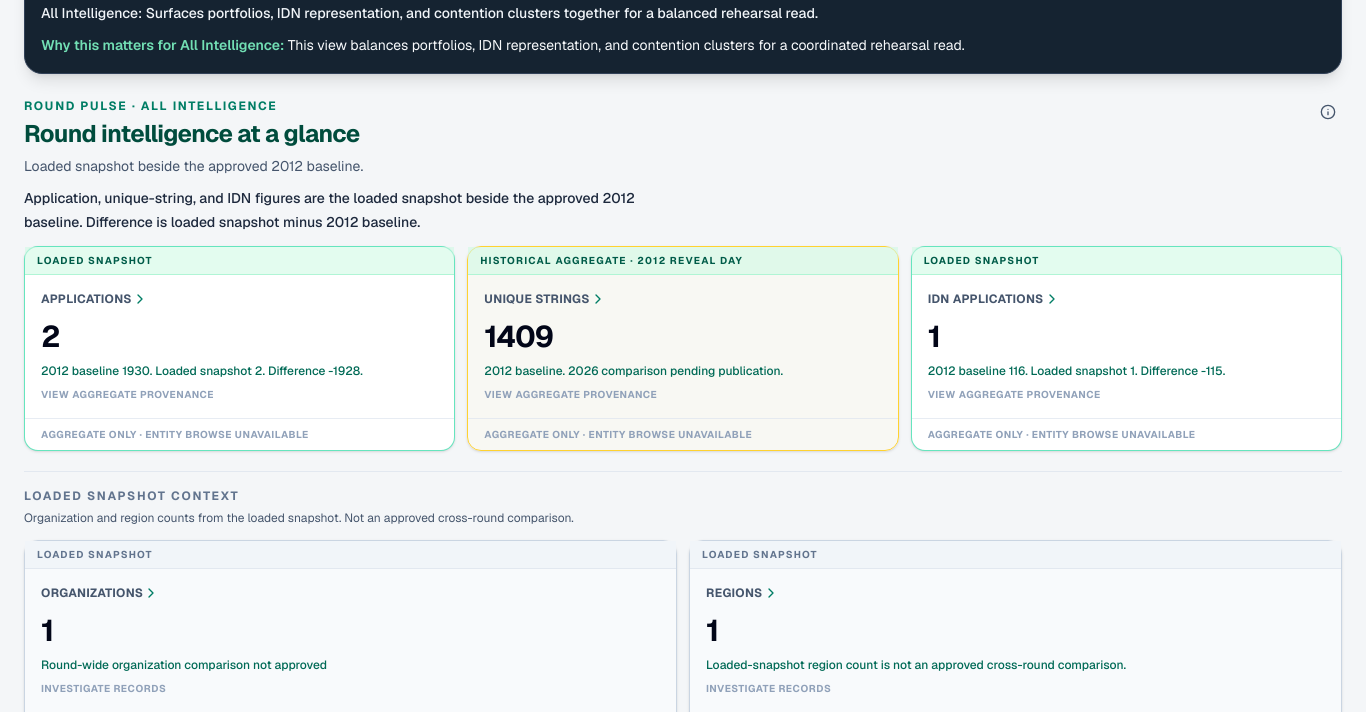
Scenario: CC-COMPARE-1 cross-round comparability › 33 — a promoted difference cites method, historical source, and the active snapshot
(page scrolled)
Click the button with aria-label "View intelligence for Applications: 2012 baseline 1930".
click(86, 298)  # box left=25, top=274, right=454, bottom=418
(page scrolled)
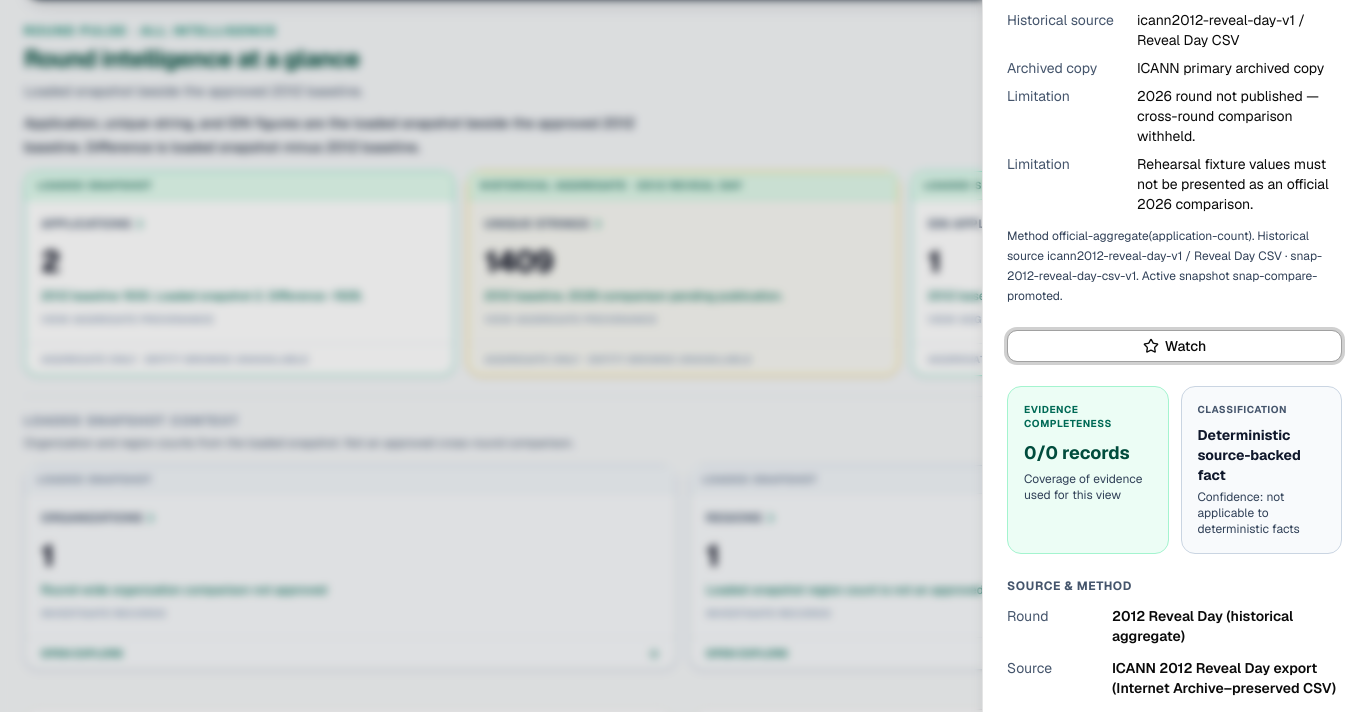
Expected: the text with test id "cross-round-provenance-applications" shows "Method official-aggregate(application-count)", left=1007, top=228, right=1322, bottom=304
Expected: the text with test id "cross-round-provenance-applications" shows "Historical source", left=1007, top=228, right=1322, bottom=304
Expected: the text with test id "cross-round-provenance-applications" shows "snap-2012-reveal-day-csv-v1", left=1007, top=228, right=1322, bottom=304
